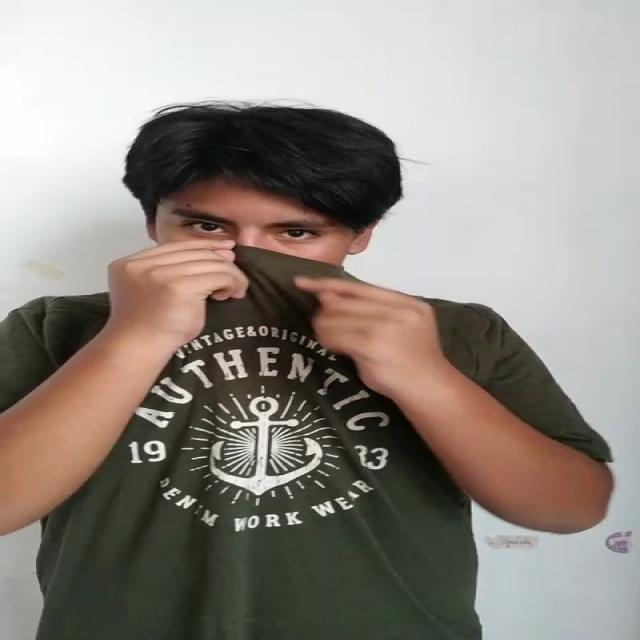8_ropa_rostro: (71, 244, 495, 341)
